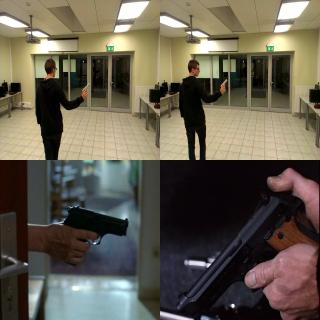gun: (173, 183, 320, 320), (54, 202, 129, 266), (77, 78, 90, 98), (216, 76, 228, 93)
